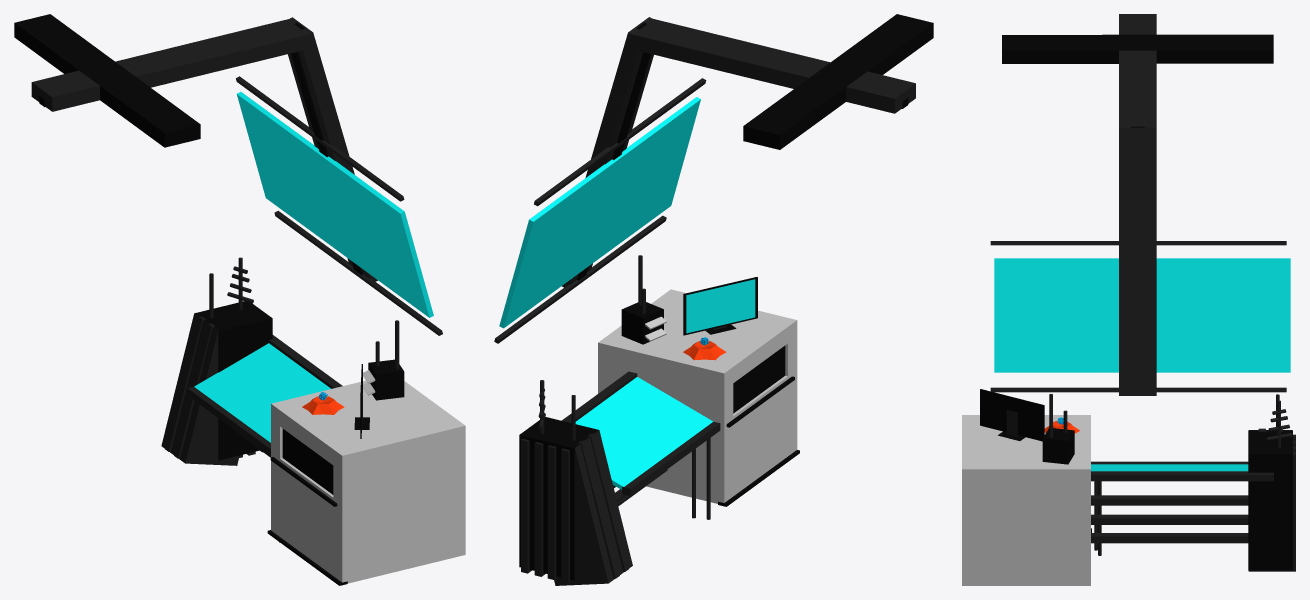
The model's file is Vox-Caster Array.obj.
3 renders of one model, left to right at view 1: azimuth 30°, elevation 25°; view 2: azimuth 150°, elevation 25°; view 3: azimuth 270°, elevation 25°, orthographic. The views are drawn at different scales.
Parts seen in each view (by area): view 1: Cube.003, Cube.001, Cube.011, Cube.012, Cube, Cube.018, Cube.006, Cube.010, Cube.008, Cube.009, Cube.005, Cube.033 (+6 smaller); view 2: Cube.003, Cube.001, Cube.011, Cube.012, Cube, Cube.018, Cube.006, Cube.010, Cube.004, Cube.008, Cube.009, Cube.033 (+11 smaller); view 3: Cube.001, Cube.003, Cube.010, Cube.012, Cube.006, Cube.011, Cube.004, Cube.032, Cube.021, Cube.022, Cube.023, Cube.008 (+5 smaller).
Part boxes in pixels (x1=…): Cube.003: x1=271, y1=380, x2=465, y2=583; Cube.001: x1=236, y1=92, x2=433, y2=317; Cube.011: x1=31, y1=19, x2=312, y2=111; Cube.012: x1=14, y1=14, x2=200, y2=147; Cube: x1=194, y1=343, x2=330, y2=442; Cube.018: x1=161, y1=313, x2=238, y2=465; Cube.006: x1=194, y1=301, x2=272, y2=460; Cube.010: x1=288, y1=17, x2=377, y2=281; Cube.008: x1=274, y1=210, x2=442, y2=335; Cube.009: x1=236, y1=76, x2=404, y2=201; Cube.005: x1=368, y1=359, x2=404, y2=400; Cube.033: x1=187, y1=386, x2=270, y2=456; Cube.003: x1=598, y1=289, x2=797, y2=503; Cube.001: x1=499, y1=97, x2=700, y2=328; Cube.011: x1=630, y1=18, x2=915, y2=113; Cube.012: x1=743, y1=14, x2=933, y2=149; Cube: x1=575, y1=377, x2=713, y2=489; Cube.018: x1=554, y1=430, x2=632, y2=585; Cube.006: x1=519, y1=417, x2=598, y2=580; Cube.010: x1=562, y1=17, x2=653, y2=287; Cube.004: x1=683, y1=277, x2=757, y2=335; Cube.008: x1=494, y1=215, x2=666, y2=343; Cube.009: x1=534, y1=78, x2=706, y2=206; Cube.033: x1=622, y1=421, x2=720, y2=496; Cube.001: x1=994, y1=258, x2=1290, y2=372; Cube.003: x1=962, y1=415, x2=1090, y2=585; Cube.010: x1=1119, y1=127, x2=1156, y2=395; Cube.012: x1=1002, y1=34, x2=1273, y2=63; Cube.006: x1=1248, y1=430, x2=1292, y2=570; Cube.011: x1=1119, y1=14, x2=1156, y2=127; Cube.004: x1=980, y1=389, x2=1044, y2=441; Cube.032: x1=1091, y1=471, x2=1273, y2=481; Cube.021: x1=1091, y1=495, x2=1248, y2=505; Cube.022: x1=1091, y1=514, x2=1248, y2=524; Cube.023: x1=1091, y1=533, x2=1248, y2=543; Cube.008: x1=990, y1=387, x2=1286, y2=392.
Size of the model in its own units: 3.07 by 4.32 by 2.96.
